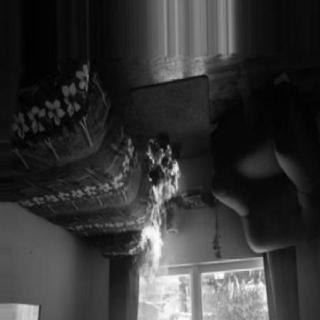Fire: (143, 137, 180, 209), (134, 212, 168, 282)
